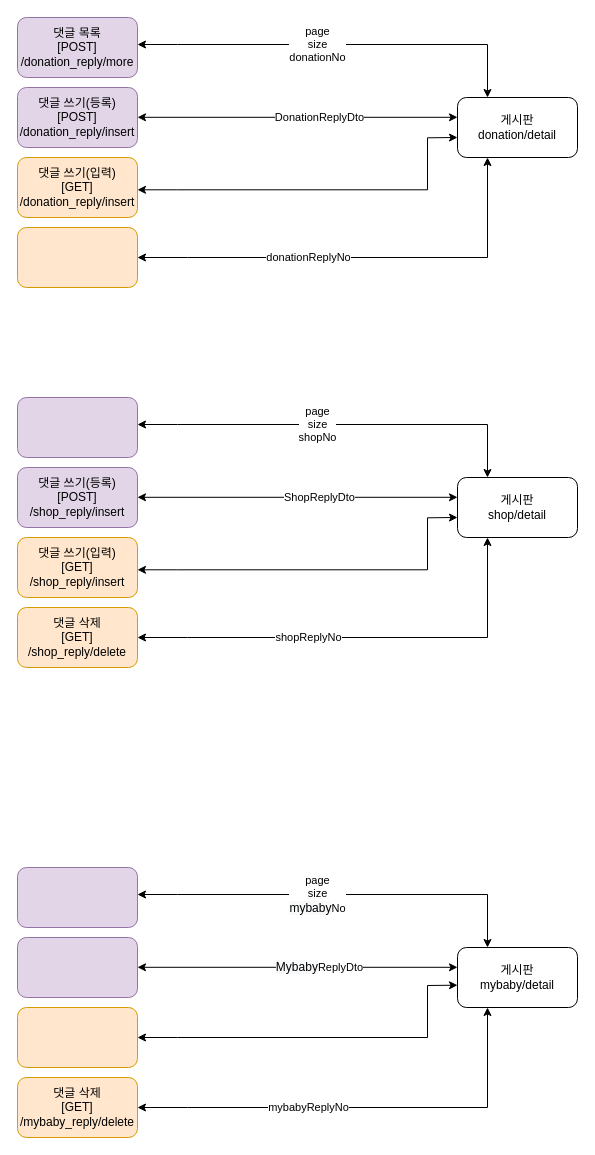
Some shapes in this 595 by 1155 pixel diagram are drawn without their labels. The shapes that lost their labels are listed below. From the top down, each one's centre as x and y in pixels, then its label:
(x=77, y=257): 댓글 삭제 [GET] /donation_reply/delete
(x=77, y=427): 댓글 목록 [POST] shop_reply/more
(x=77, y=897): 댓글 목록 [POST] mybaby_reply/more
(x=77, y=967): 댓글 쓰기(등록) [POST] /mybaby_reply/insert
(x=77, y=1037): 댓글 쓰기(입력) [GET] /mybaby_reply/insert
